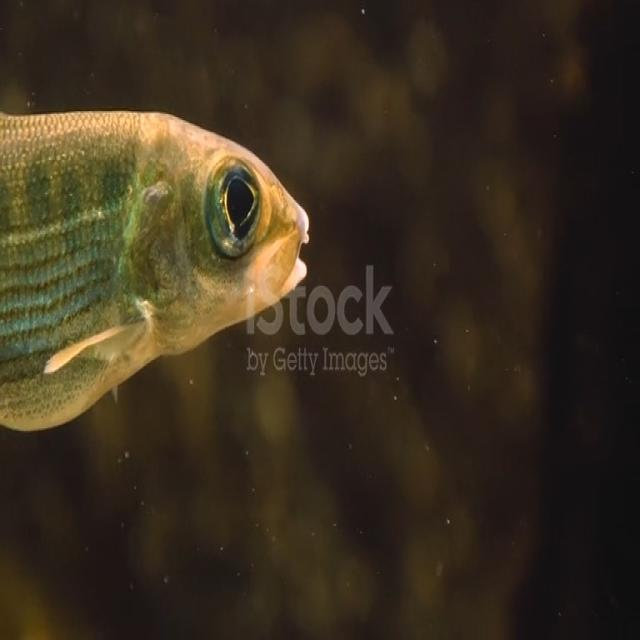fish: (0, 100, 322, 442)
